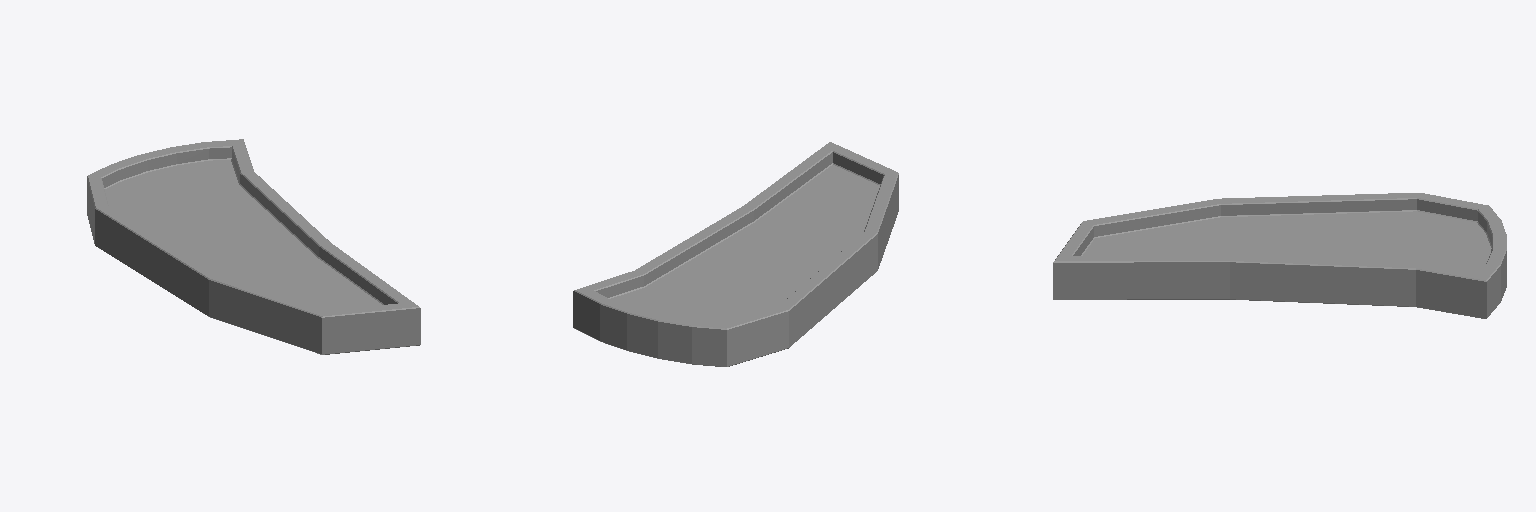
The model's file is stapler_trigger.obj.
3 views of the same model, side by side, from view 1: azimuth 30°, elevation 25°; view 2: azimuth 150°, elevation 25°; view 3: azimuth 270°, elevation 25° (orthographic).
Parts seen in each view (by area): view 1: stapler_trigger; view 2: stapler_trigger; view 3: stapler_trigger.
Boxes of the visible parts, <box> form: stapler_trigger: <box>87,139,420,354</box>; stapler_trigger: <box>573,142,898,366</box>; stapler_trigger: <box>1053,193,1506,318</box>.
Bounding box in the file's own units: 0.0644 × 0.0131 × 0.1389.